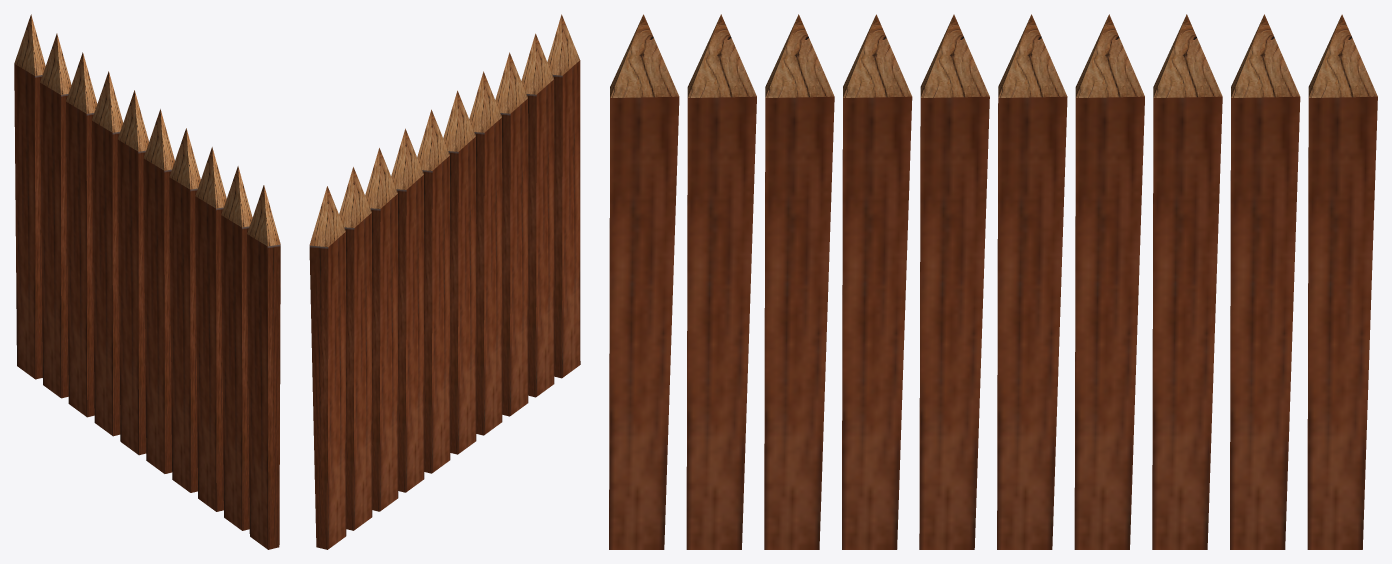
The model's file is corral_004.fbx.
3 renders of one model, left to right at view 1: azimuth 30°, elevation 25°; view 2: azimuth 150°, elevation 25°; view 3: azimuth 270°, elevation 25°, orthographic. The views are drawn at different scales.
Parts seen in each view (by area): view 1: corral.004; view 2: corral.004; view 3: corral.004.
Part boxes in pixels (<box>): corral.004: <box>14,14,280,549</box>; corral.004: <box>309,14,580,549</box>; corral.004: <box>609,14,1377,549</box>.
Size of the model in its own units: 14.66 by 337 by 440.
